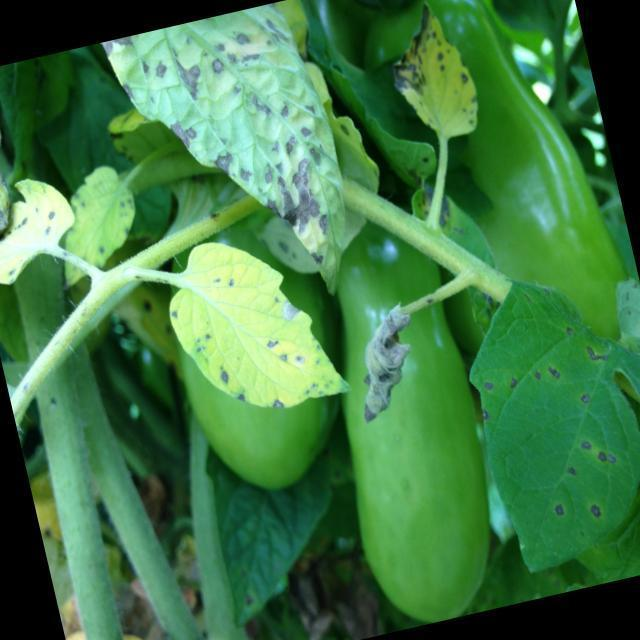Septoria: (137, 0, 352, 265), (465, 303, 640, 566), (174, 250, 343, 419), (382, 15, 486, 150), (0, 127, 80, 289)
